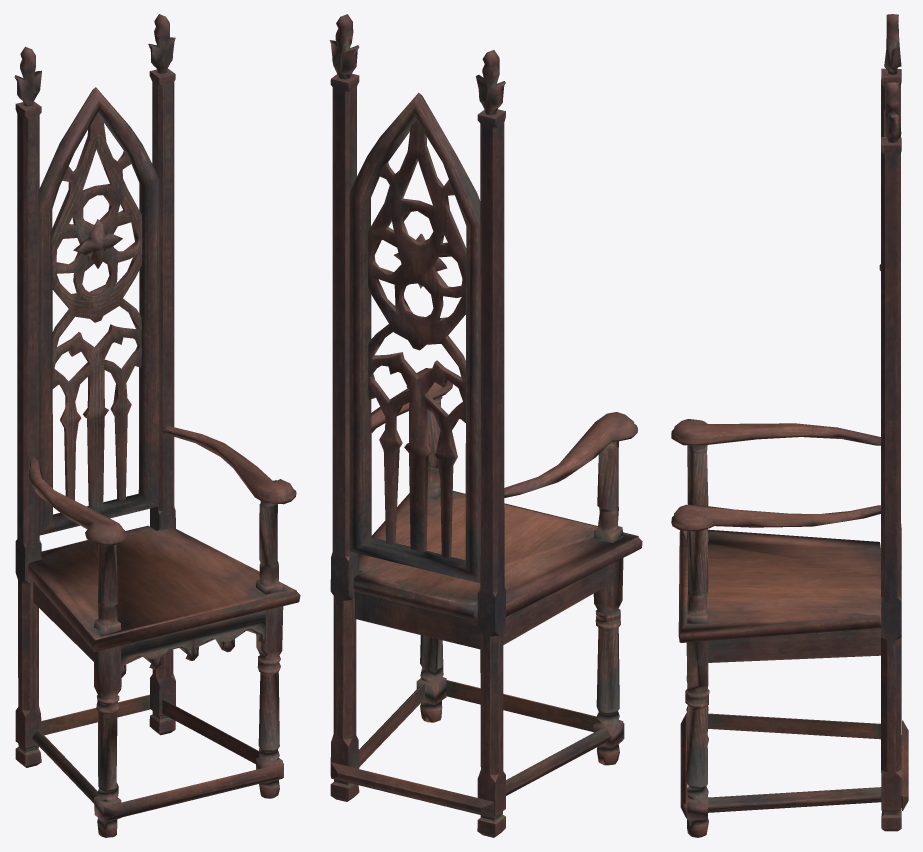
The model's file is WoodenChair_01.glb.
The picture shows the model from 3 angles, left to right: view 1: azimuth 30°, elevation 25°; view 2: azimuth 150°, elevation 25°; view 3: azimuth 270°, elevation 25°; orthographic projection. The views are drawn at different scales.
Parts seen in each view (by area): view 1: WoodenChair_01; view 2: WoodenChair_01; view 3: WoodenChair_01.
Boxes of the visible parts, x1=… form: WoodenChair_01: x1=14, y1=14, x2=300, y2=837; WoodenChair_01: x1=329, y1=14, x2=642, y2=837; WoodenChair_01: x1=671, y1=14, x2=908, y2=837.
Bounding box in the file's own units: 0.6873 × 2.27 × 0.6556.
Materials: 1 (1 with a texture image).
